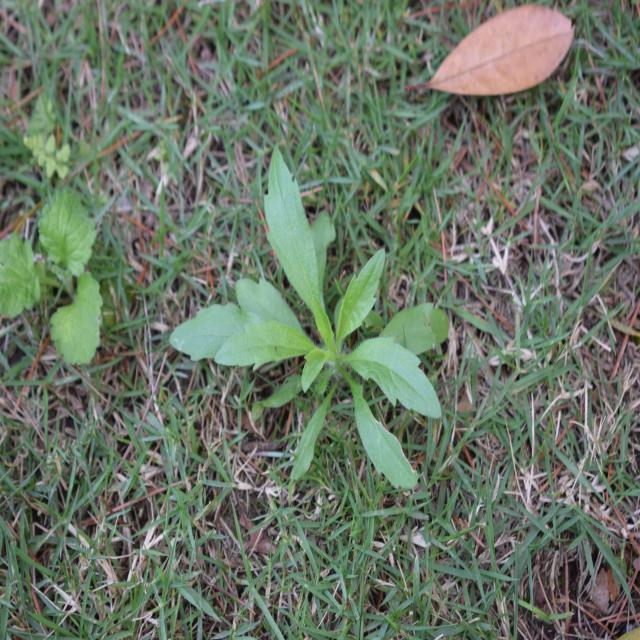horseweed: (187, 187, 441, 465)
